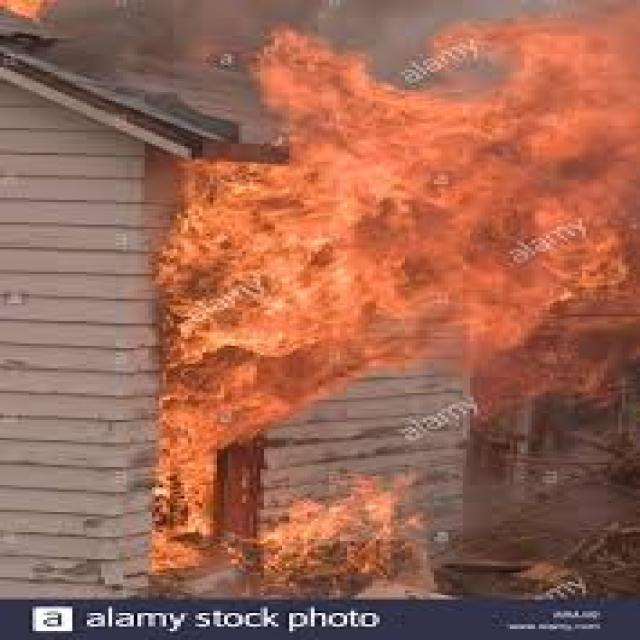Fire: (146, 0, 640, 602)
